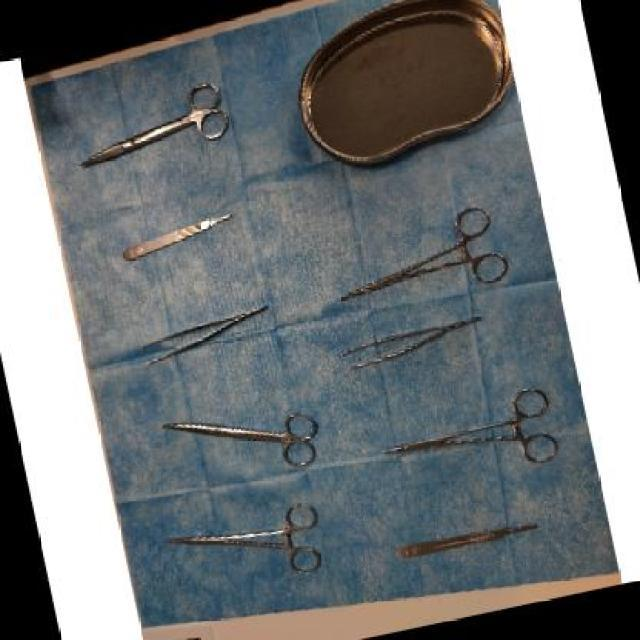tools_table: (45, 0, 569, 588)
